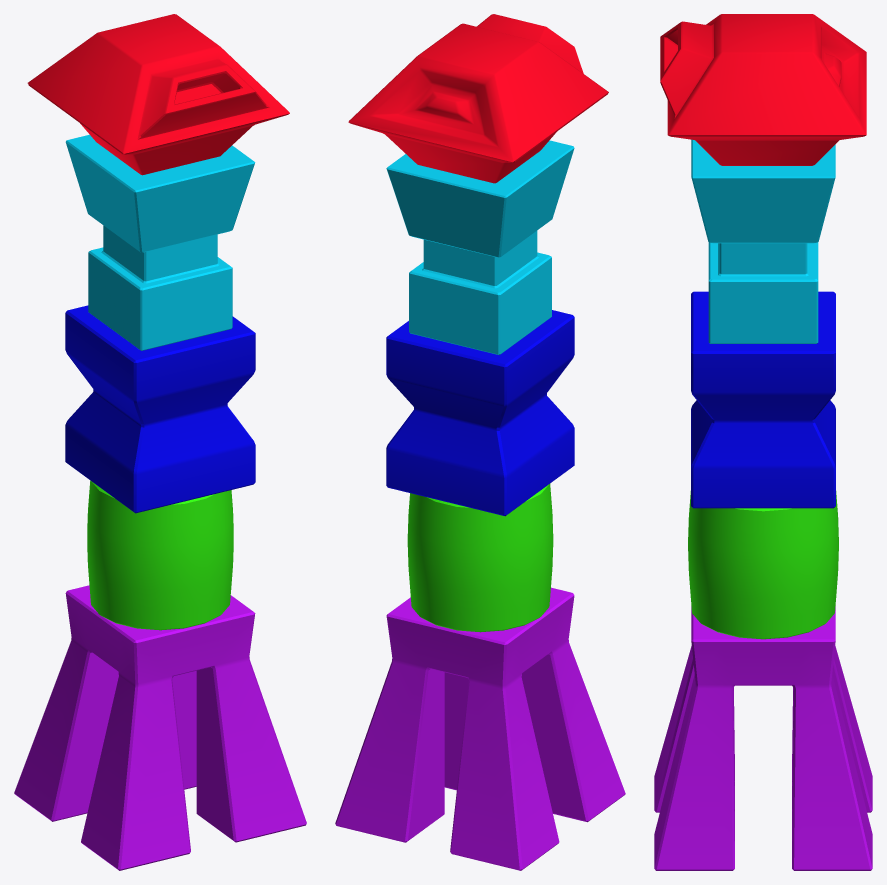
File: full Pillar.fbx
The picture shows the model from 3 angles, left to right: view 1: azimuth 30°, elevation 25°; view 2: azimuth 150°, elevation 25°; view 3: azimuth 270°, elevation 25°; orthographic projection. The views are drawn at different scales.
Visible parts, largest first — view 1: pillar bottom, pillar middle, pillar fourth, pillar top, pillar second; view 2: pillar bottom, pillar middle, pillar fourth, pillar top, pillar second; view 3: pillar bottom, pillar top, pillar middle, pillar fourth, pillar second.
Part boxes in pixels (bbox=[...]): pillar bottom: bbox=[14, 585, 306, 870]; pillar middle: bbox=[65, 305, 255, 513]; pillar fourth: bbox=[65, 134, 255, 350]; pillar top: bbox=[27, 14, 289, 175]; pillar second: bbox=[87, 480, 233, 630]; pillar bottom: bbox=[335, 587, 625, 870]; pillar middle: bbox=[386, 310, 574, 516]; pillar fourth: bbox=[386, 140, 574, 355]; pillar top: bbox=[348, 14, 608, 183]; pillar second: bbox=[407, 483, 553, 632]; pillar bottom: bbox=[654, 606, 872, 870]; pillar top: bbox=[660, 14, 866, 165]; pillar middle: bbox=[691, 291, 835, 508]; pillar fourth: bbox=[691, 139, 835, 343]; pillar second: bbox=[688, 491, 838, 639].
Size of the model in its own units: 77.57 by 302 by 75.36.
